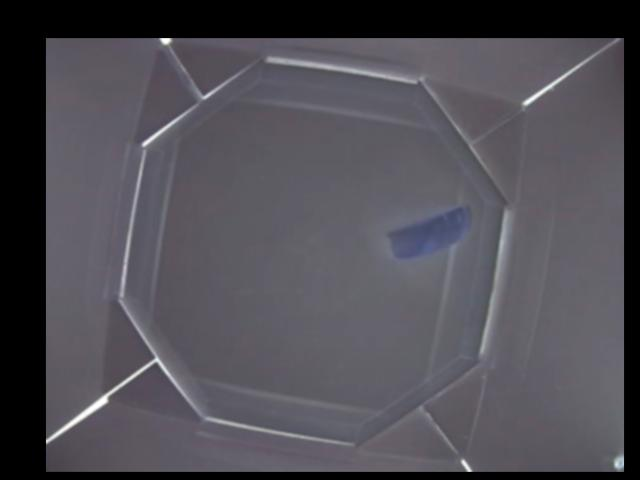Mooli: (387, 201, 472, 262)
